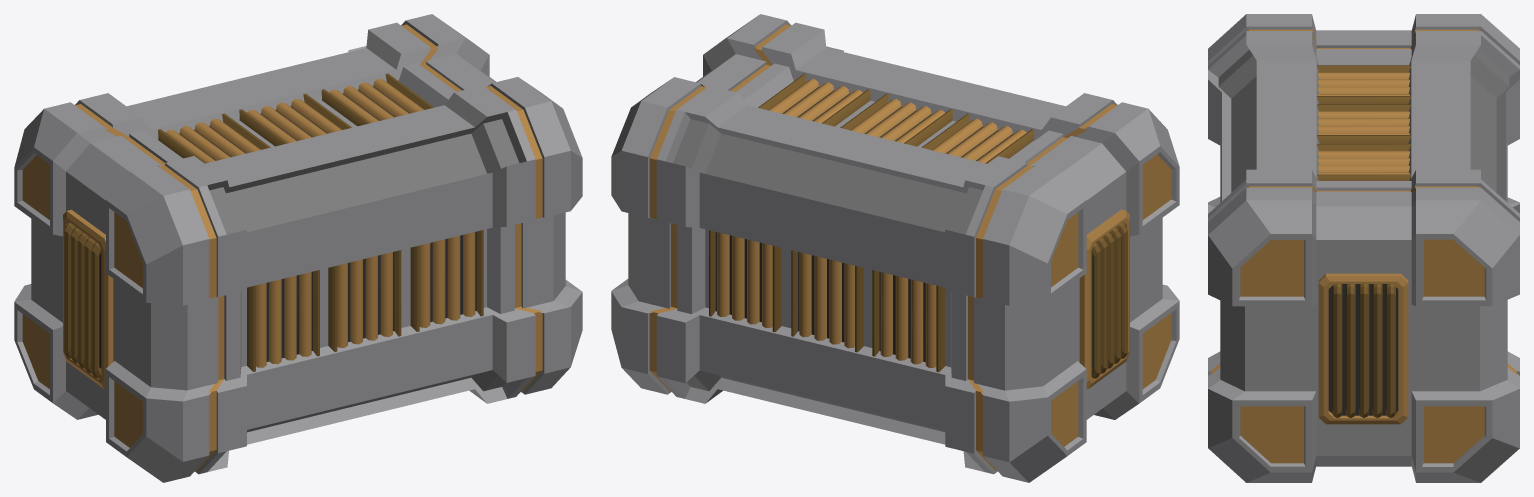
File: quaternius-modular-sci-fi-props-crate-long.glb
3 views of the same model, side by side, from view 1: azimuth 30°, elevation 25°; view 2: azimuth 150°, elevation 25°; view 3: azimuth 270°, elevation 25° (orthographic).
Visible parts, largest first — view 1: Props_CrateLong; view 2: Props_CrateLong; view 3: Props_CrateLong.
Boxes of the visible parts, box(x1,y1,x2,y2) form: Props_CrateLong: box(14, 14, 582, 482); Props_CrateLong: box(611, 14, 1179, 482); Props_CrateLong: box(1208, 14, 1519, 482).
Bounding box in the file's own units: 1.23 × 0.7698 × 0.7698.
1 material, 1 textured.
